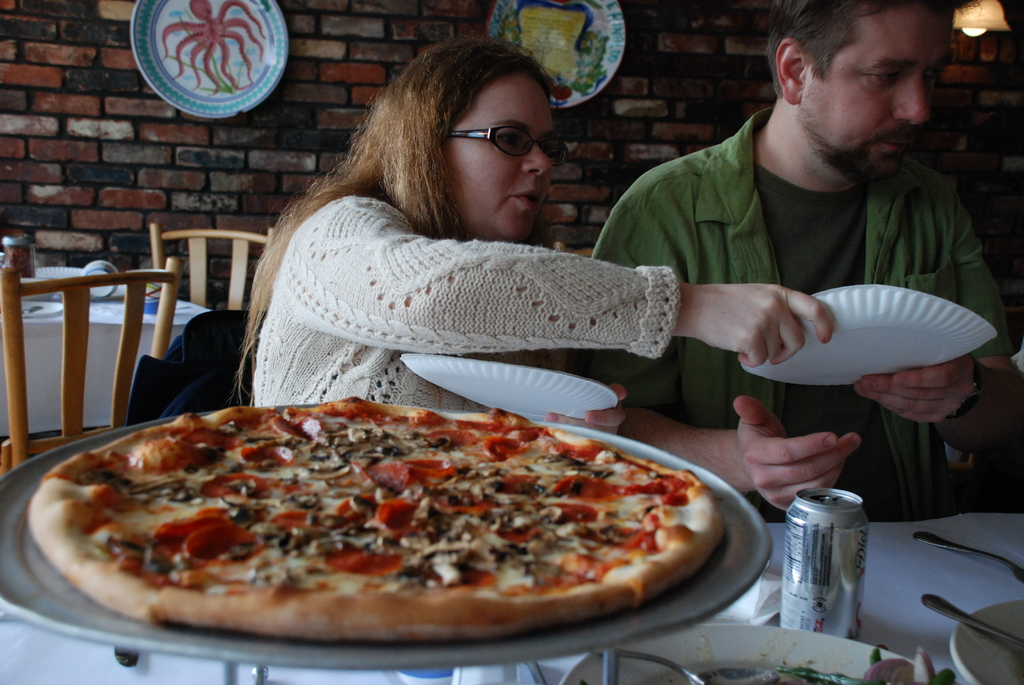Pizza: (28, 404, 741, 660)
